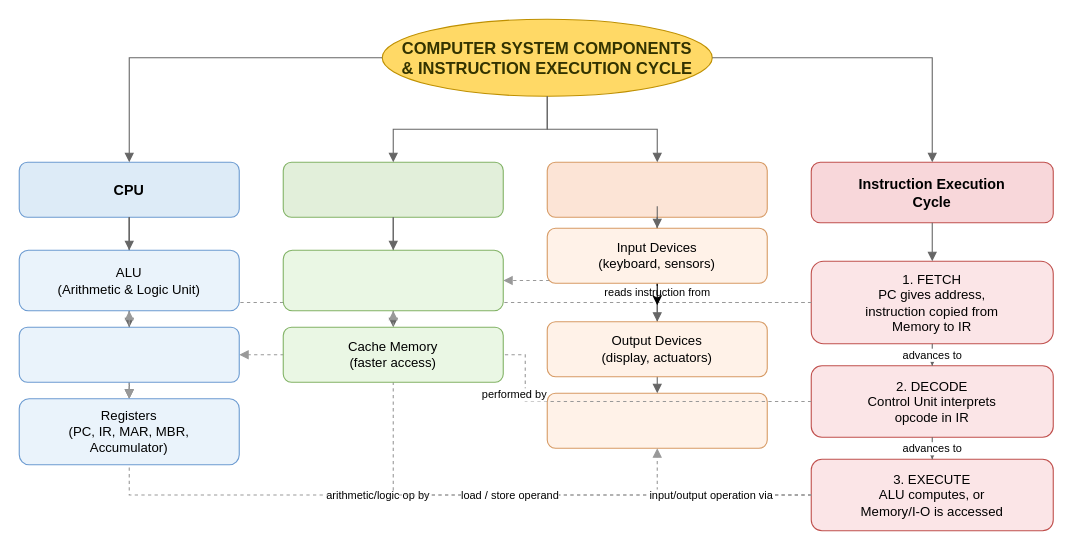
Image size: 1073x550. Some labels were removed from this diagram. Each missing label, with the centre of its shape:
Control Unit: point (128, 354)
I/O: point (656, 189)
I/O Controller / Interface: point (656, 420)
Main Memory (RAM) stores instructions & data: point (392, 280)
Memory: point (392, 189)
